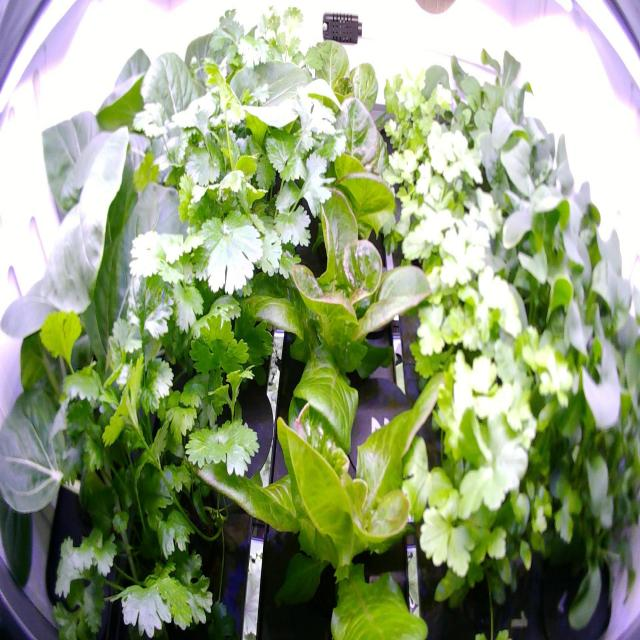young: (179, 361, 468, 638), (230, 163, 447, 462), (262, 94, 406, 274), (269, 29, 395, 166)
